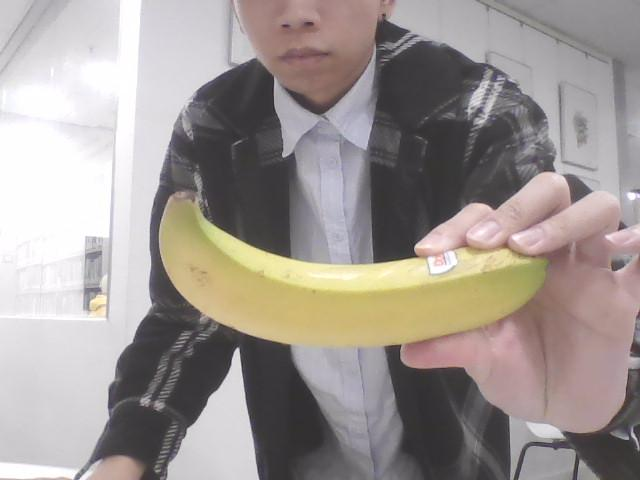banana: (159, 189, 549, 350)
